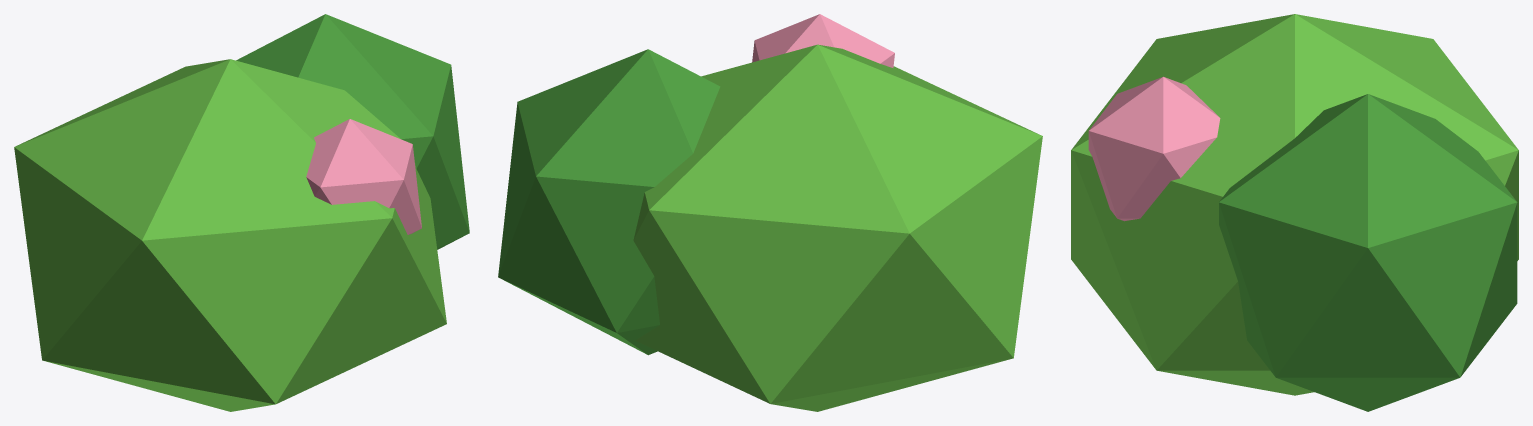
File: P_Bush.fbx
3 views of the same model, side by side, from view 1: azimuth 30°, elevation 25°; view 2: azimuth 150°, elevation 25°; view 3: azimuth 270°, elevation 25° (orthographic). The views are drawn at different scales.
Parts seen in each view (by area): view 1: P_Bush; view 2: P_Bush; view 3: P_Bush.
Part boxes in pixels (x1,y1,x2,y2): P_Bush: (14, 14, 469, 411); P_Bush: (498, 14, 1042, 411); P_Bush: (1071, 14, 1518, 411).
Size of the model in its own units: 0.7567 by 0.576 by 0.6125.
